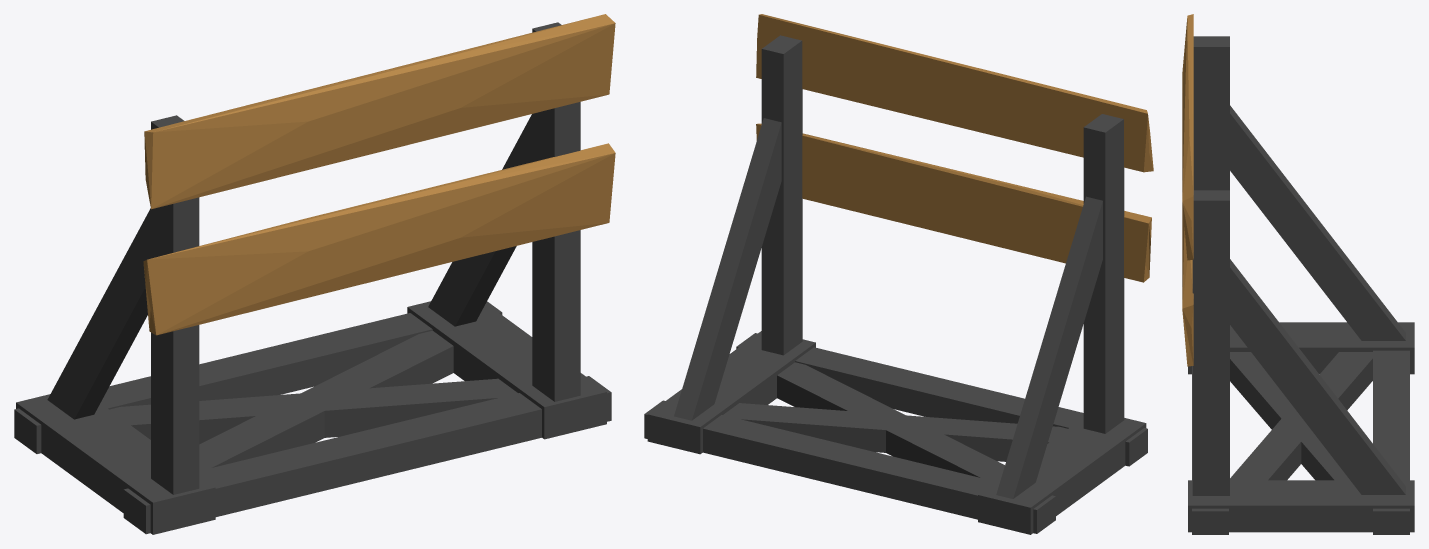
Rendered from Model_Track_End.FBX.
3 renders of one model, left to right at view 1: azimuth 30°, elevation 25°; view 2: azimuth 150°, elevation 25°; view 3: azimuth 270°, elevation 25°, orthographic. The views are drawn at different scales.
Visible parts, largest first — view 1: Track_End; view 2: Track_End; view 3: Track_End.
Part boxes in pixels (box(x1,y1,x2,y2)): Track_End: box(14, 14, 615, 534); Track_End: box(644, 14, 1153, 534); Track_End: box(1182, 14, 1414, 534).
Bounding box in the file's own units: 216 × 180 × 113.
